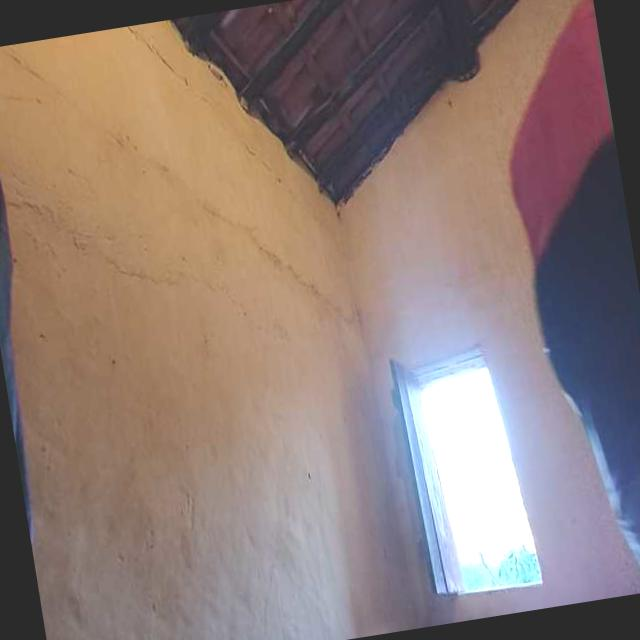colete: (476, 0, 630, 253)
pessoa: (535, 291, 640, 602)
